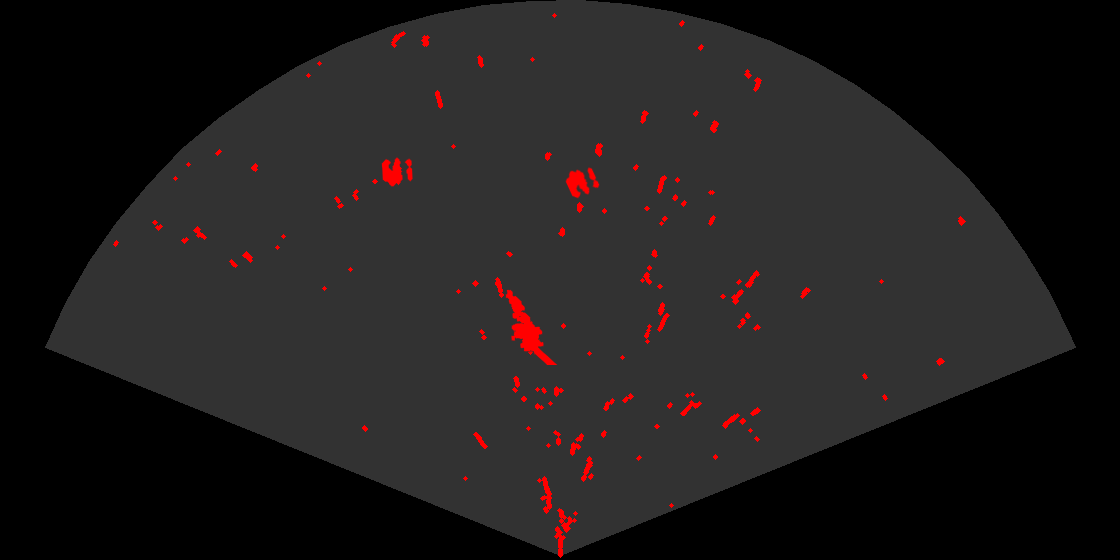ball: (564, 166, 601, 200), (380, 156, 414, 188)
frogman: (504, 288, 559, 365)
